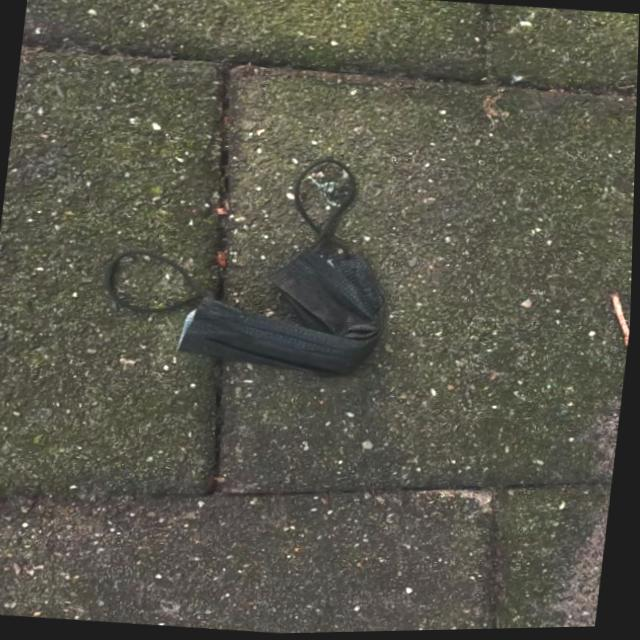Mask: (93, 139, 407, 391)
